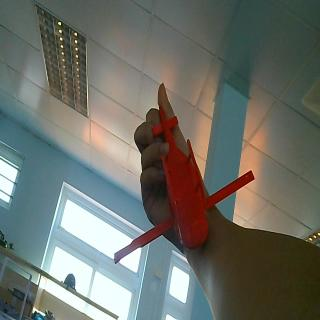Helicopter: (113, 104, 255, 264)
